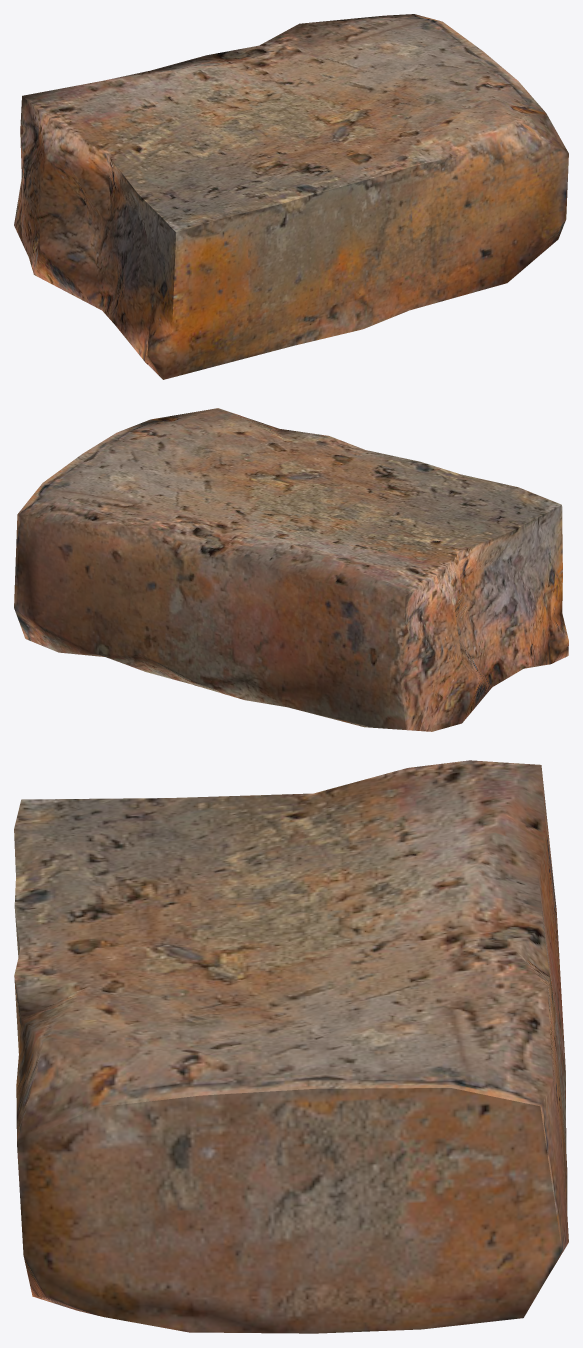
The model's file is SM_Brick_01_05.fbx.
3 views of the same model, one above another, from view 1: azimuth 30°, elevation 25°; view 2: azimuth 150°, elevation 25°; view 3: azimuth 270°, elevation 25° (orthographic). The views are drawn at different scales.
Parts seen in each view (by area): view 1: sm_Brick_01_05_LOD0; view 2: sm_Brick_01_05_LOD0; view 3: sm_Brick_01_05_LOD0.
Boxes of the visible parts, bbox=[...] form: sm_Brick_01_05_LOD0: bbox=[14, 14, 568, 379]; sm_Brick_01_05_LOD0: bbox=[14, 408, 568, 731]; sm_Brick_01_05_LOD0: bbox=[14, 760, 568, 1333].
Size of the model in its own units: 11.83 by 17.5 by 6.89.
